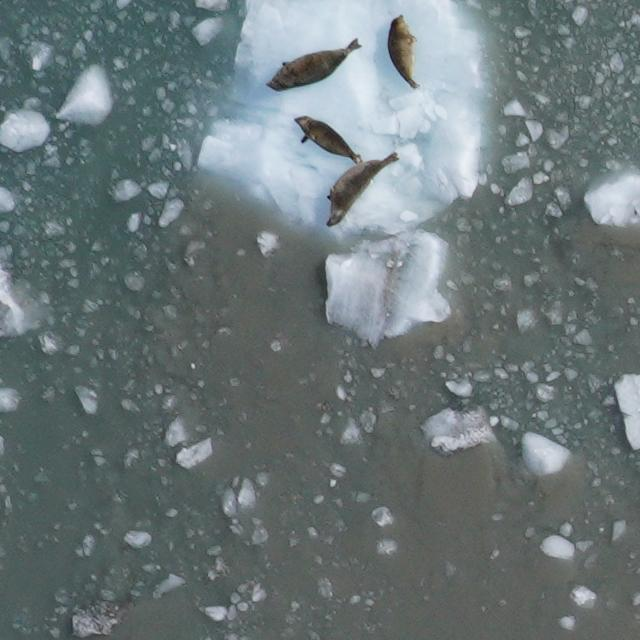seal: (309, 134, 403, 232), (258, 28, 369, 103), (284, 110, 372, 168), (385, 12, 422, 92)
